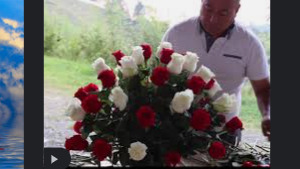RedRose: (186, 73, 218, 97), (185, 109, 213, 132), (208, 137, 233, 162), (146, 65, 171, 87), (139, 106, 160, 131), (78, 95, 104, 112), (65, 136, 91, 152), (94, 139, 111, 162), (95, 70, 114, 89), (165, 149, 183, 168), (160, 49, 176, 69), (139, 44, 155, 60), (72, 83, 89, 97), (227, 118, 241, 133), (113, 49, 126, 61), (75, 121, 87, 131)
